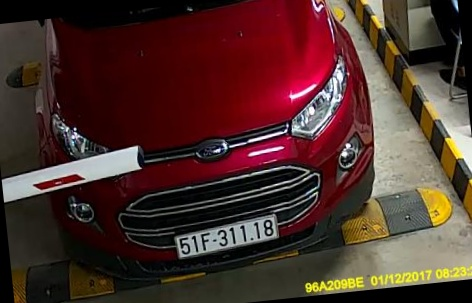plate: (170, 211, 289, 262)
